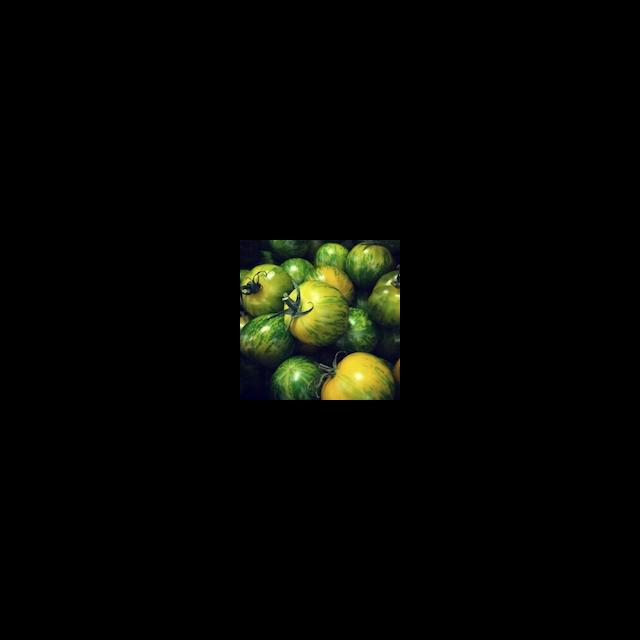tomato: (241, 244, 400, 398)
